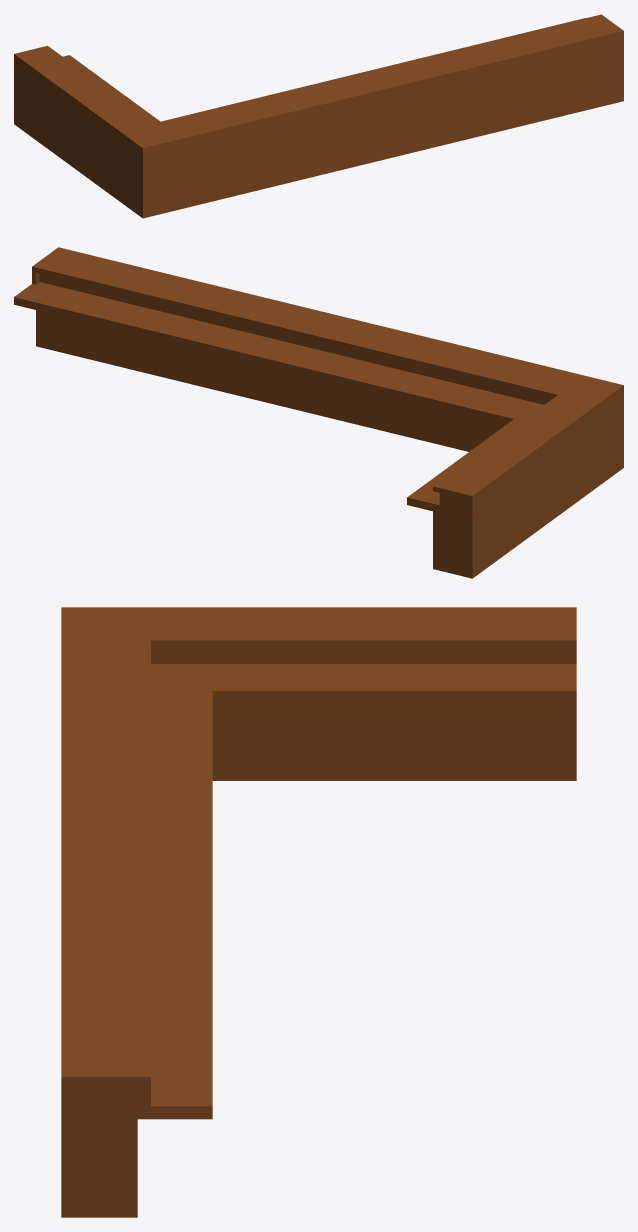
Rendered from Desk.fbx.
3 renders of one model, top to bottom at view 1: azimuth 30°, elevation 25°; view 2: azimuth 150°, elevation 25°; view 3: azimuth 270°, elevation 25°, orthographic. The views are drawn at different scales.
Visible parts, largest first — view 1: Cube.061; view 2: Cube.061; view 3: Cube.061.
Boxes of the visible parts, bbox=[...] form: Cube.061: bbox=[14, 14, 623, 218]; Cube.061: bbox=[14, 247, 623, 578]; Cube.061: bbox=[61, 607, 576, 1217].
Bounding box in the file's own units: 762 × 106 × 353.
